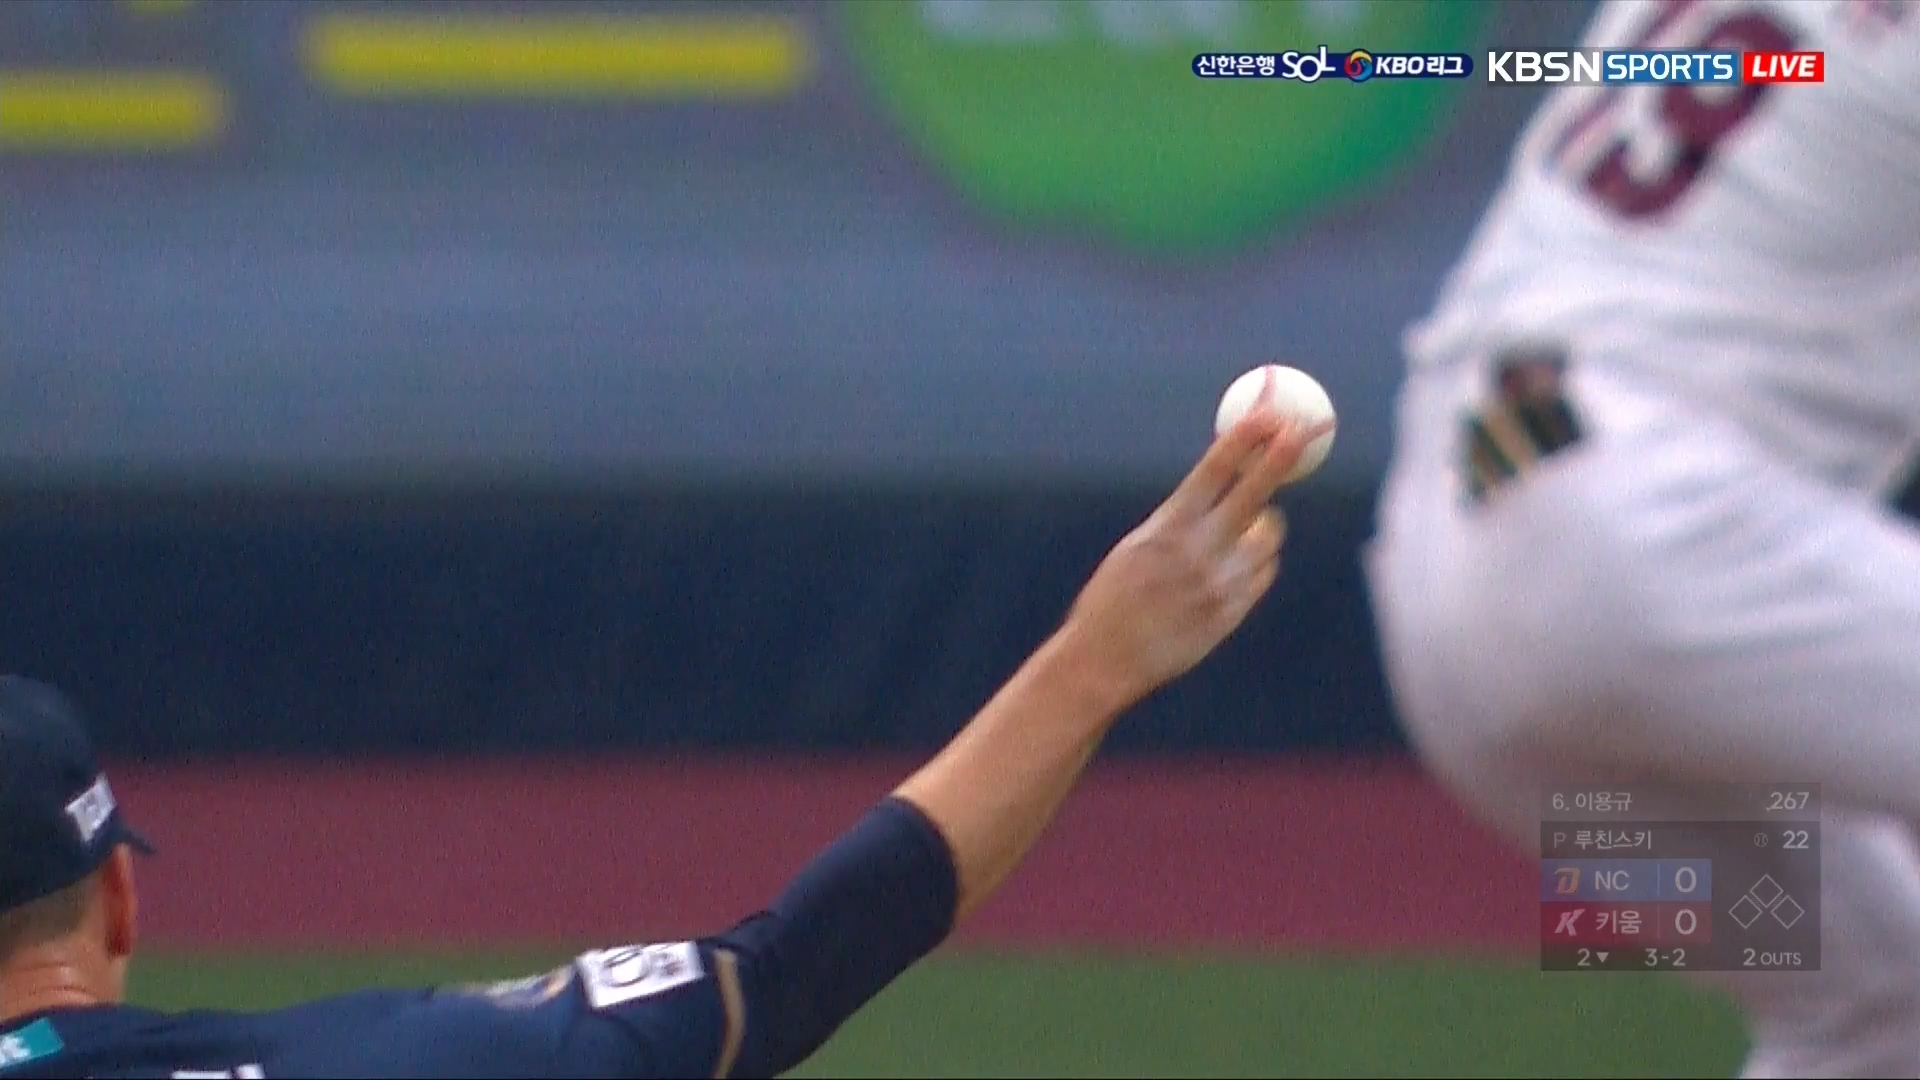zoomin_hand: (800, 338, 1340, 984)
